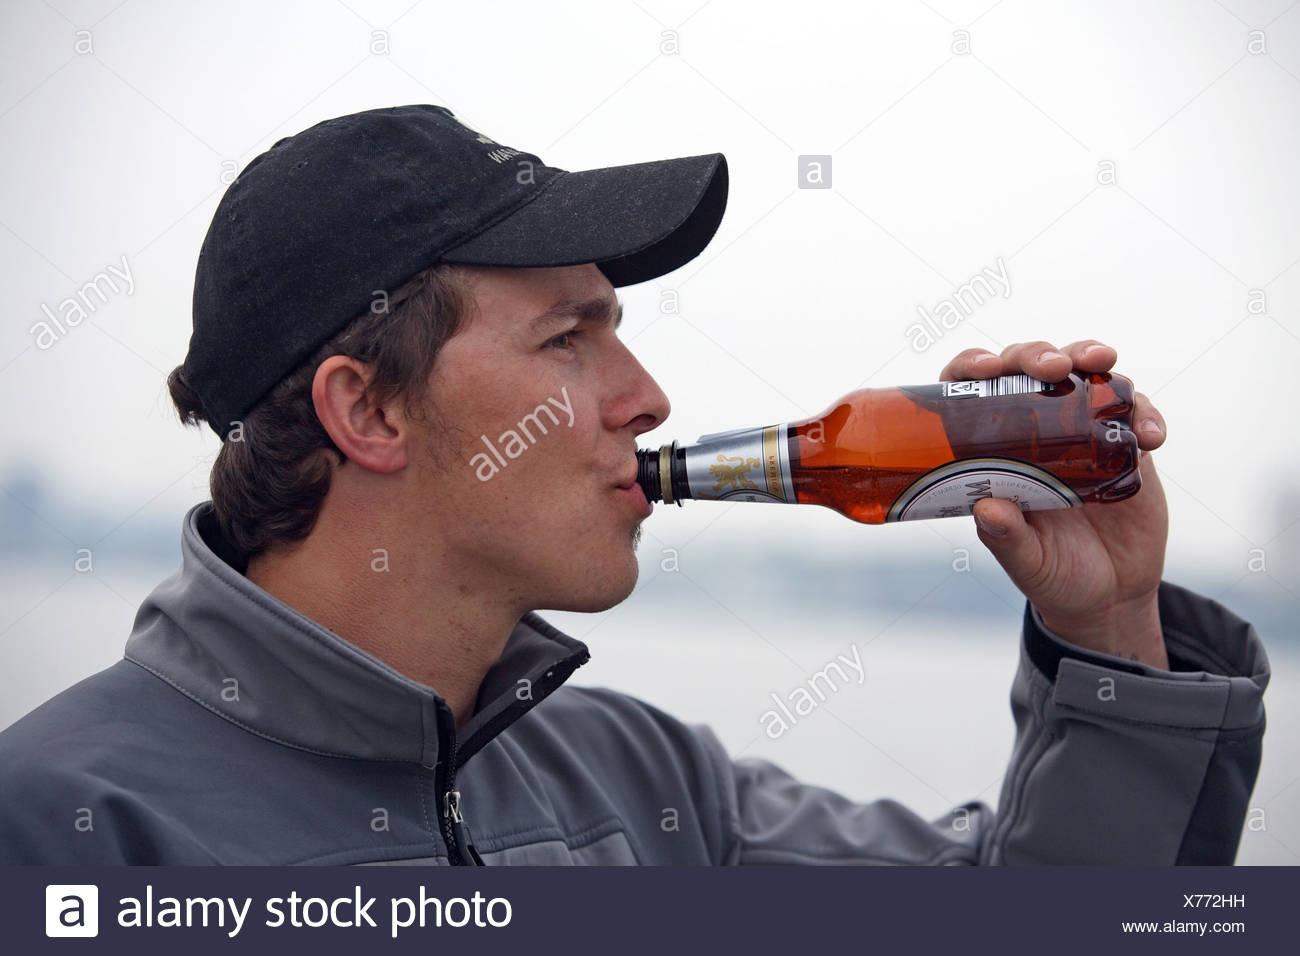beerBottle: (646, 364, 1150, 524)
